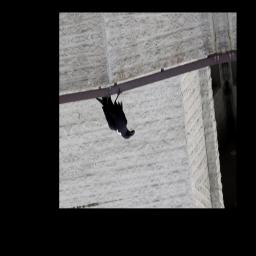Crow: (93, 81, 136, 146)
